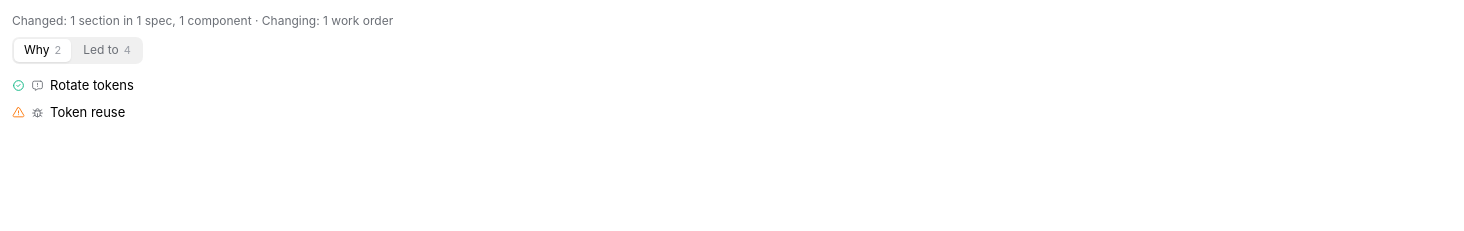
it: Lineage panel › shows the summary, Why / Led to tabs with statuses and a collapsed "also affected" ring
Expected: the text with test id "lineage-summary" reads "Changed: 1 section in 1 spec, 1 component · Changing: 1 work order", [12,13,393,28]
Expected: the icon named "Needs attention" is shown, [12,106,25,119]
Click the tab "Led to 4" at (107, 51), box [73,39,141,62]
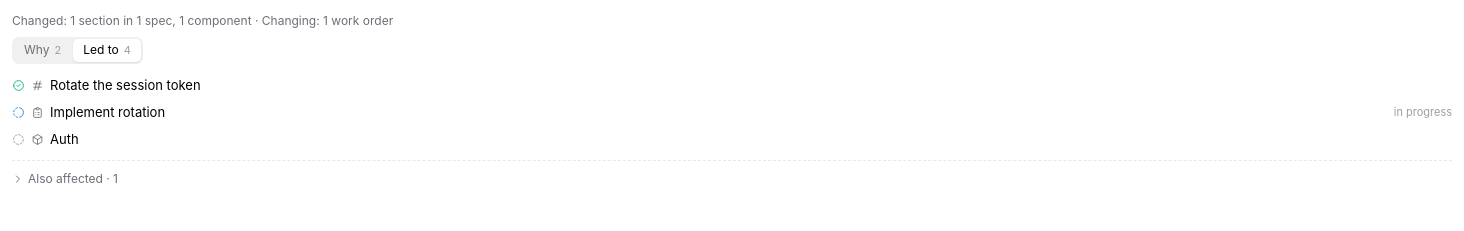
Expected: the text "Billing" is not shown
Expected: the number of list items with test id "lineage-item" is 3, [12,77,201,93]; [12,99,1452,125]; [12,131,79,147]
Click the button "Also affected · 1" at (65, 179), box [12,170,118,189]
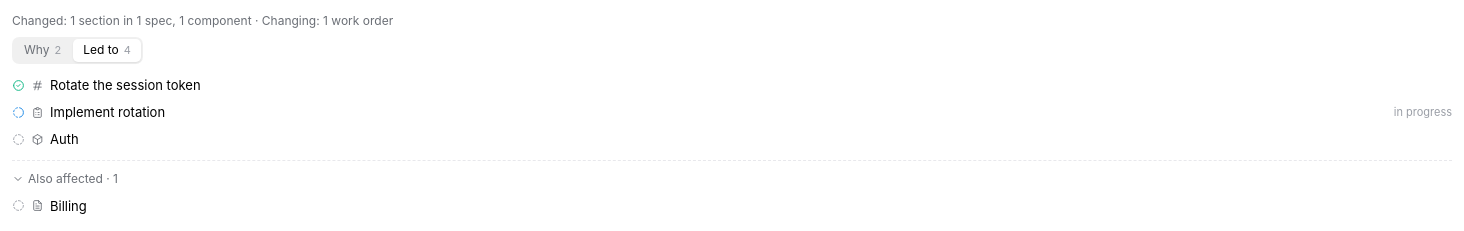
Expected: the text "Billing" is shown, [50,198,87,214]
